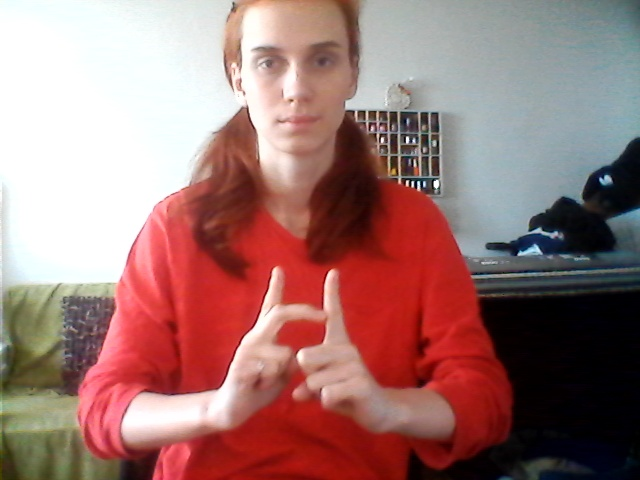h: (219, 265, 385, 438)
